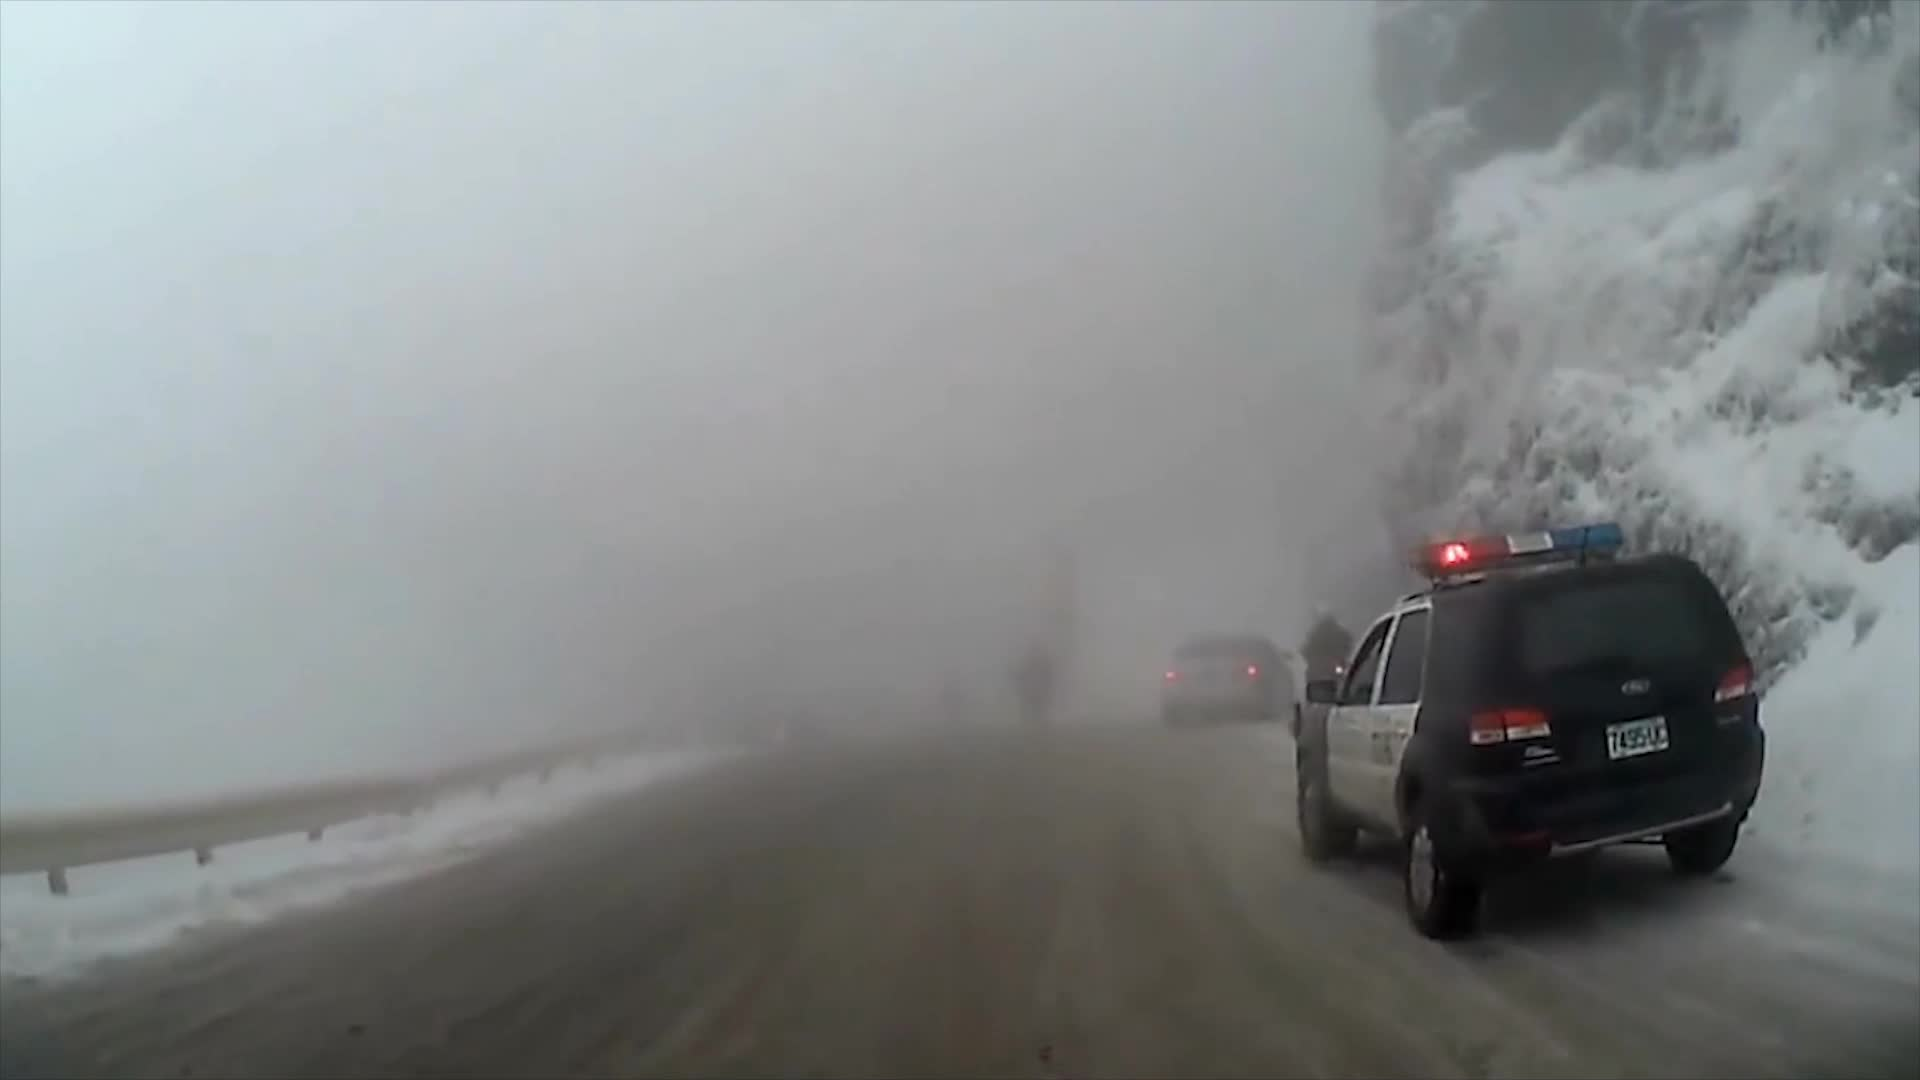pedestrian: (1303, 602, 1359, 747)
vehicle: (1286, 520, 1767, 935), (1158, 629, 1293, 726)
